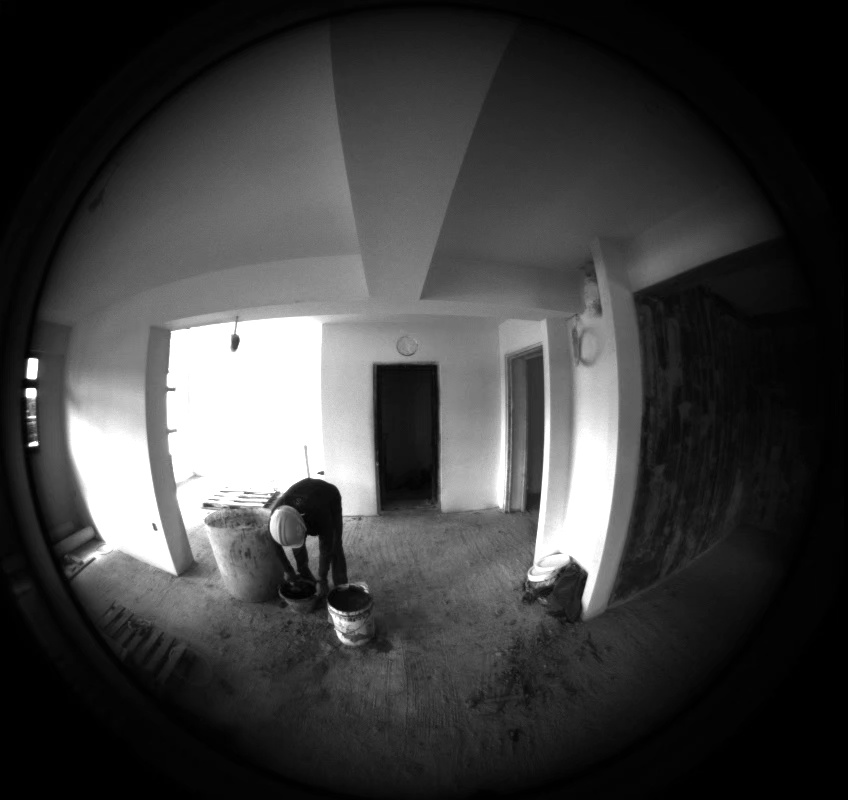Building materials: (97, 111, 299, 600), (98, 87, 210, 688)
Ceiling: (0, 0, 779, 316)
Door: (36, 160, 540, 510), (62, 145, 436, 507)
Floor: (73, 321, 783, 795)
Person: (73, 105, 344, 582)
Tools: (62, 68, 586, 622)
Wall: (200, 240, 810, 600), (80, 238, 641, 617), (179, 196, 497, 513), (66, 253, 192, 573), (27, 222, 91, 543)
